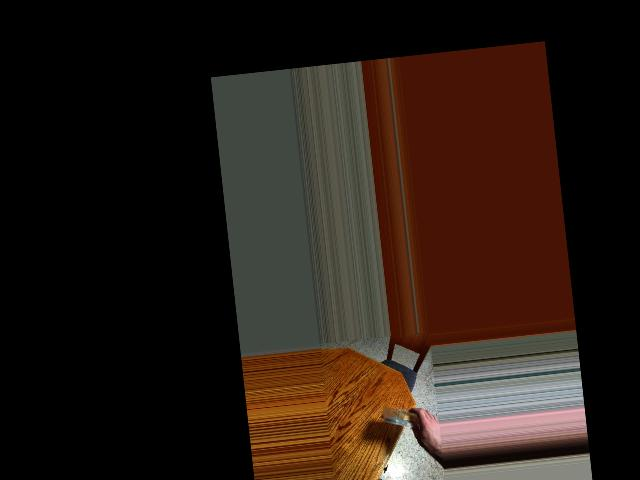cheese: (385, 400, 420, 432)
